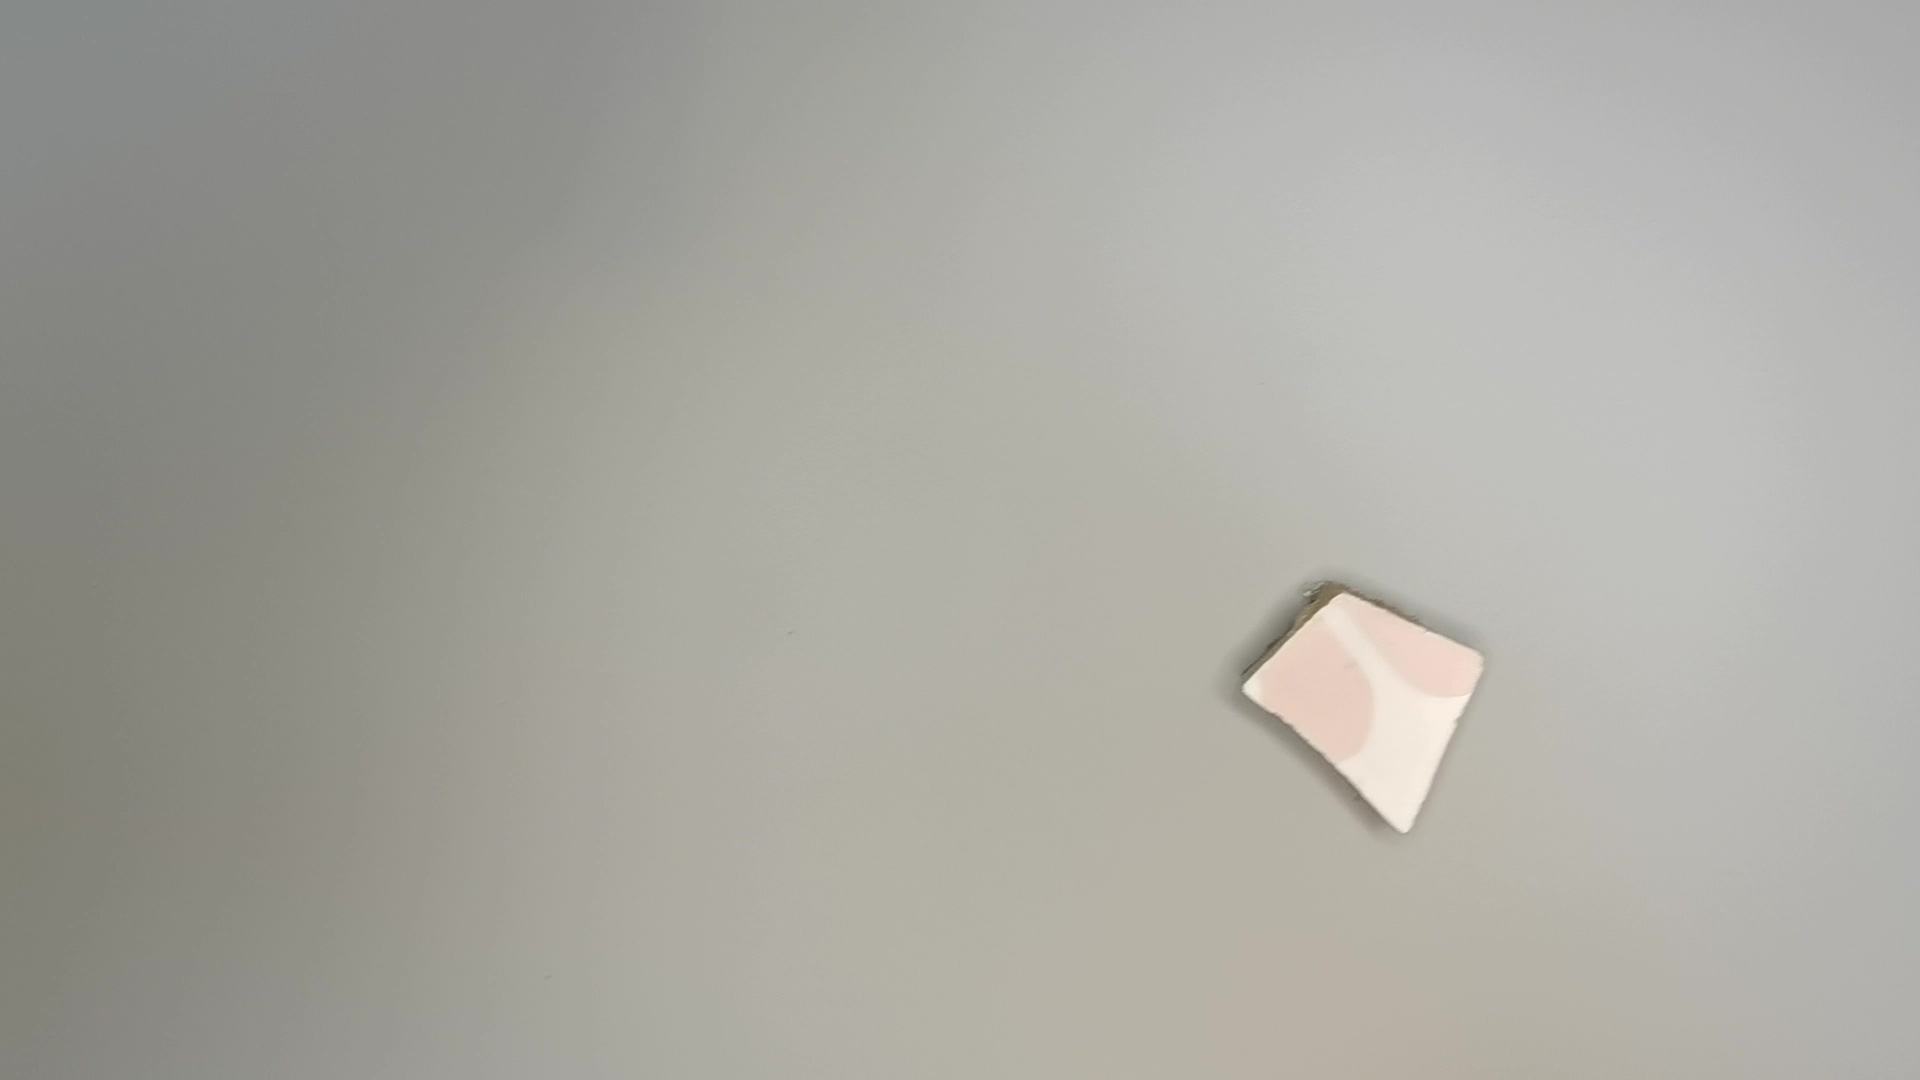ceramic: (1233, 580, 1501, 856)
